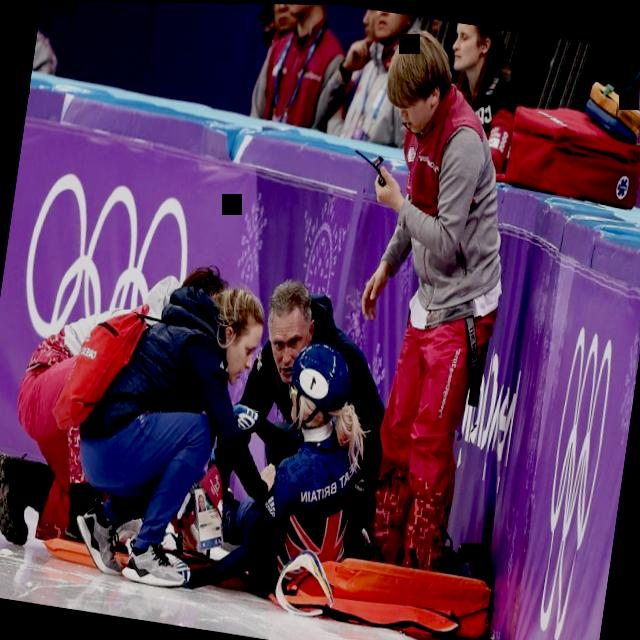Fall-Detected: (158, 325, 386, 626)
